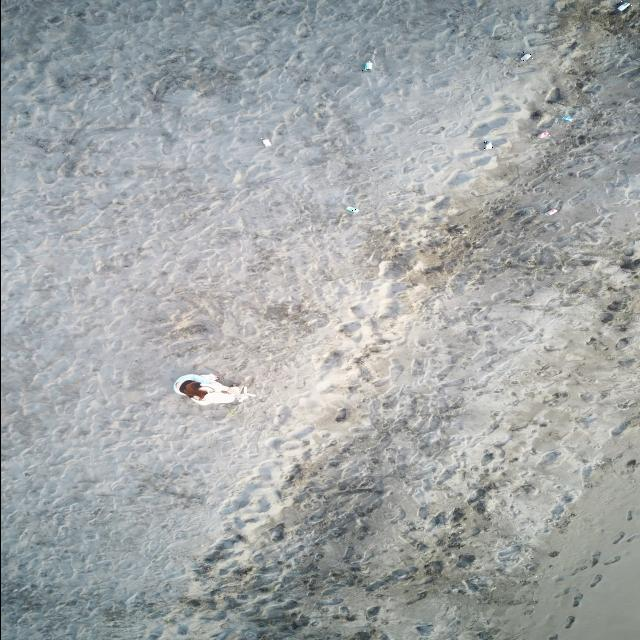Garbage: (173, 373, 249, 404), (544, 87, 560, 103), (335, 407, 346, 420), (616, 2, 630, 12), (360, 60, 372, 71), (529, 110, 542, 120), (536, 129, 550, 138), (520, 51, 531, 60), (544, 208, 557, 215), (261, 138, 271, 147), (483, 140, 492, 148), (560, 114, 572, 120), (347, 206, 357, 212)
